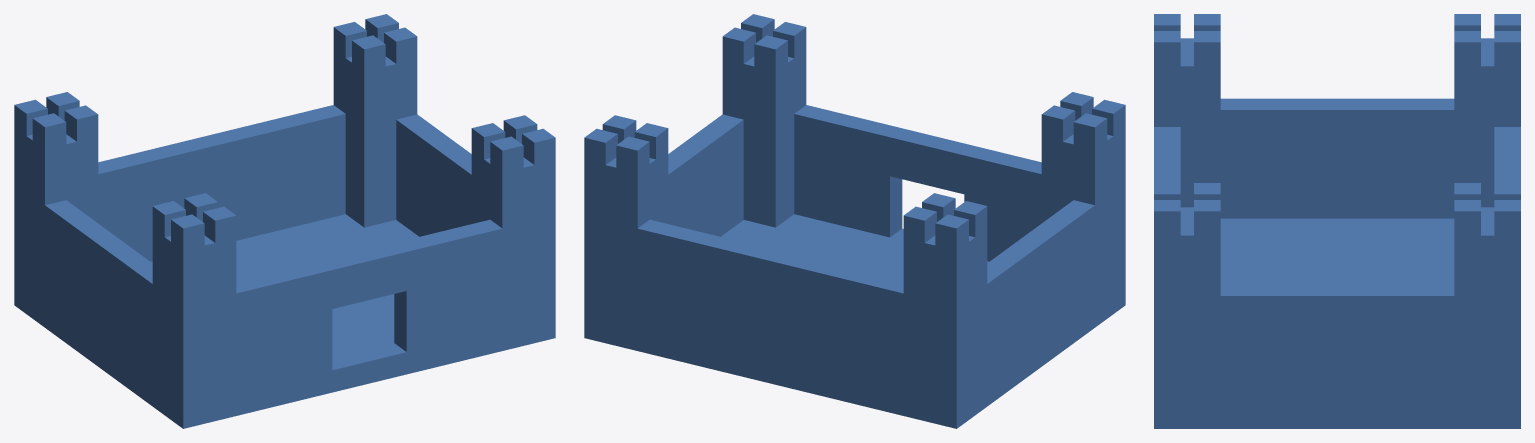
File: castle.glb
The picture shows the model from 3 angles, left to right: view 1: azimuth 30°, elevation 25°; view 2: azimuth 150°, elevation 25°; view 3: azimuth 270°, elevation 25°; orthographic projection. The views are drawn at different scales.
Visible parts, largest first — view 1: castle; view 2: castle; view 3: castle.
Boxes of the visible parts, box(x1,y1,x2,y2) form: castle: box(14, 14, 555, 428); castle: box(584, 14, 1125, 428); castle: box(1154, 14, 1520, 428).
Size of the model in its own units: 0.07 by 0.036 by 0.055.
